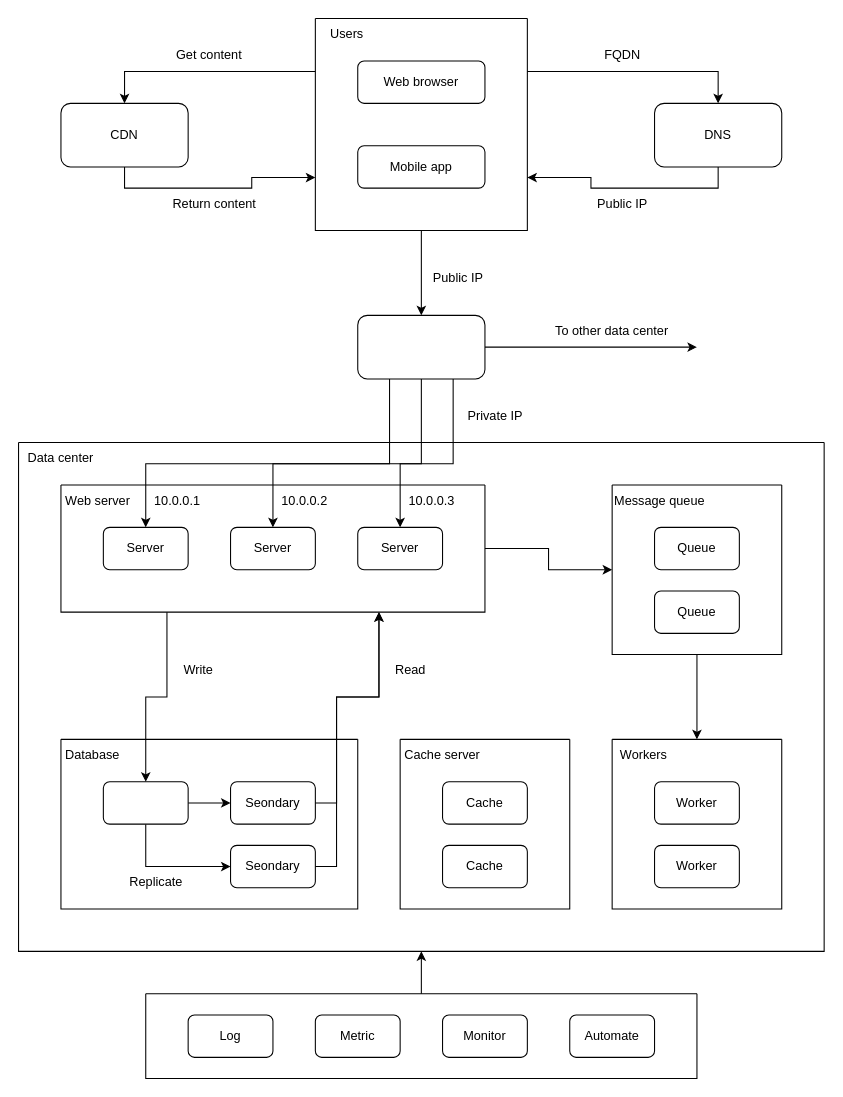
Some shapes in this 843 by 1097 pixel diagram are drawn without their labels. The box of each missing label's shape, as (x1, y1, x2, y2) in pixels:
Load balancer: (357, 314, 485, 379)
Primary: (102, 781, 188, 824)
